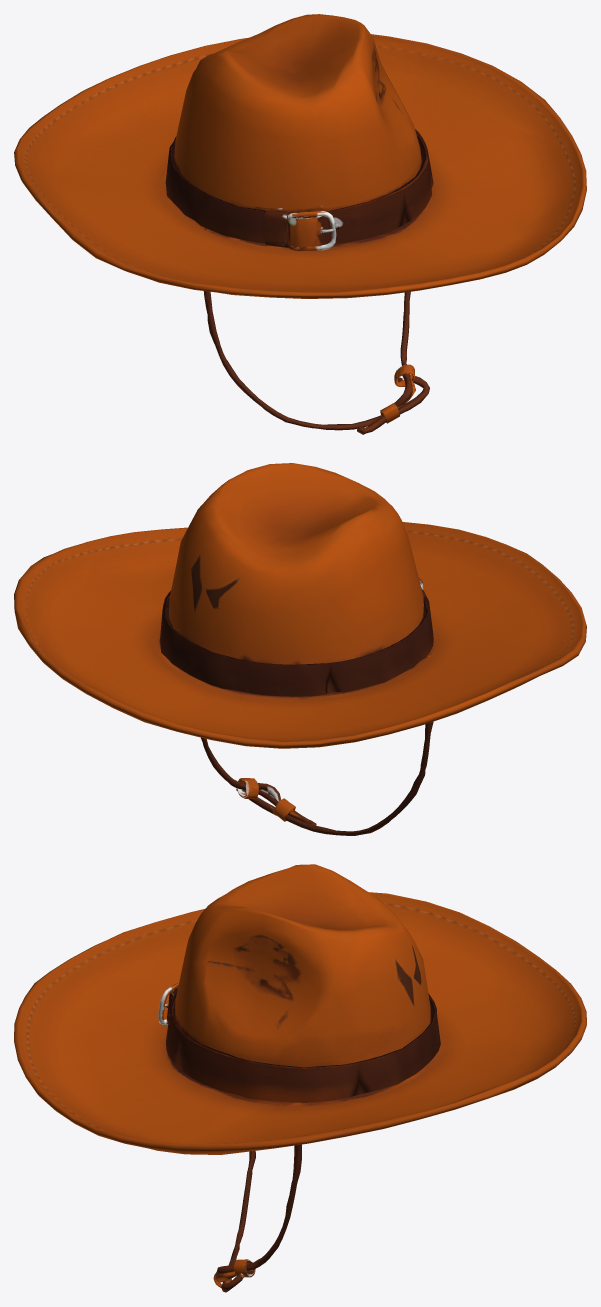
File: hat_cowboy.glb
3 renders of one model, top to bottom at view 1: azimuth 30°, elevation 25°; view 2: azimuth 150°, elevation 25°; view 3: azimuth 270°, elevation 25°, orthographic.
Size of the model in its own units: 0.9551 by 0.6909 by 0.9517.
Materials: 1 (1 with a texture image).
